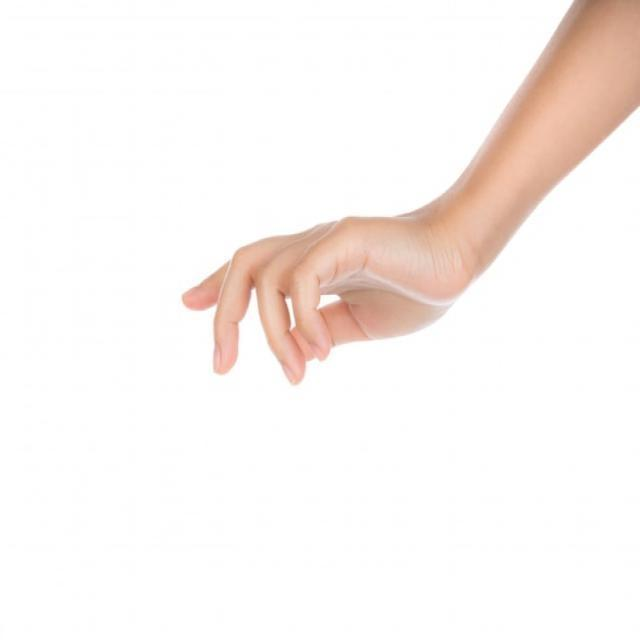no_apron: (172, 190, 432, 388)
